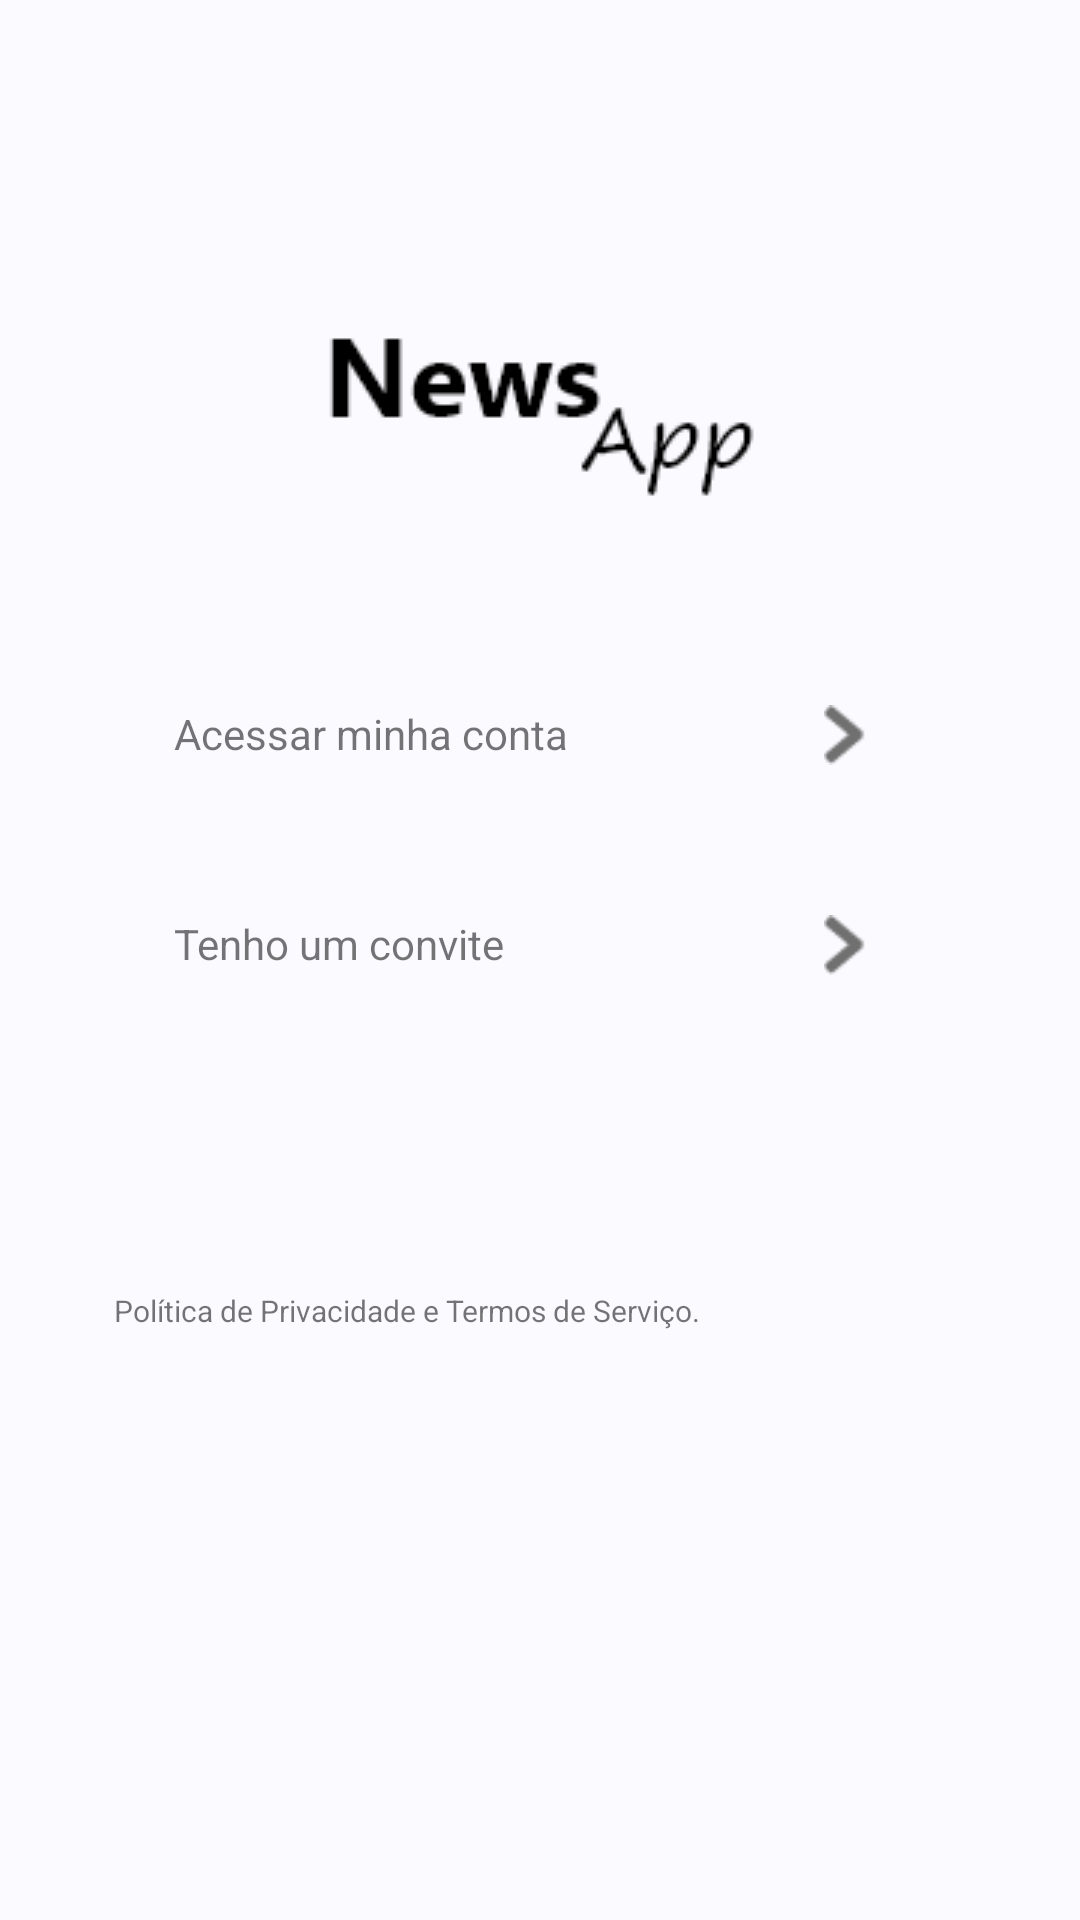

Icons on this 1080 x 1920 Android screen, each with the point to tap as point (x, y):
right: point (844, 735), point (844, 945)
